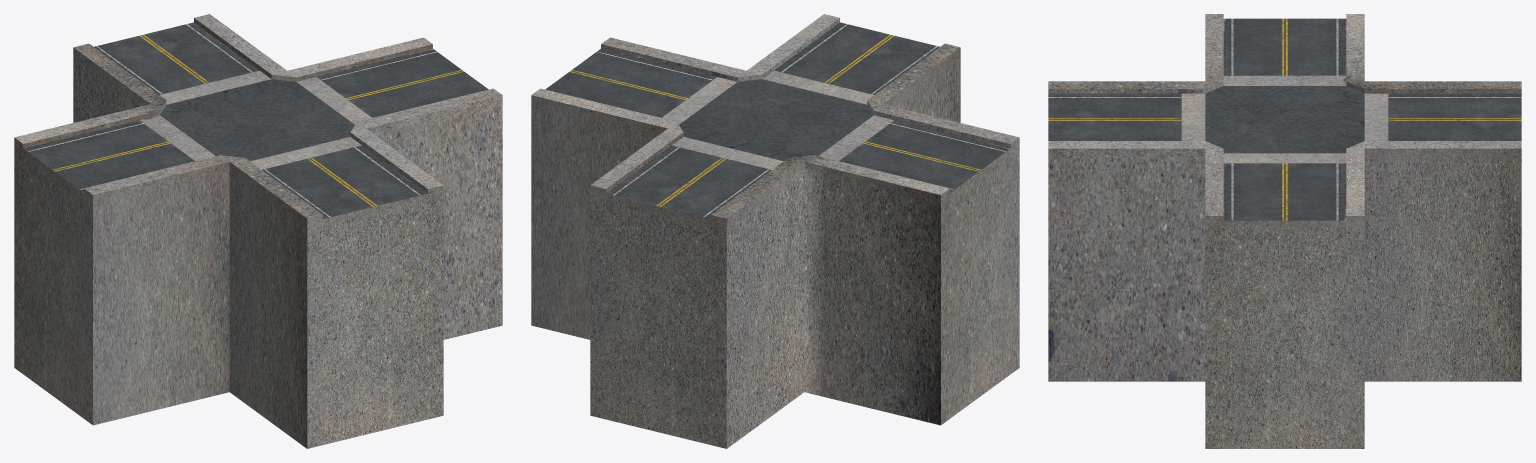
Rendered from intersection.fbx.
3 renders of one model, left to right at view 1: azimuth 30°, elevation 25°; view 2: azimuth 150°, elevation 25°; view 3: azimuth 270°, elevation 25°, orthographic.
Parts seen in each view (by area): view 1: Plane.018; view 2: Plane.018; view 3: Plane.018.
Boxes of the visible parts, x1,y1,x2,y2 form: Plane.018: (14, 14, 502, 448); Plane.018: (531, 14, 1019, 448); Plane.018: (1048, 14, 1521, 448).
Size of the model in its own units: 3900 by 2096 by 3860.
